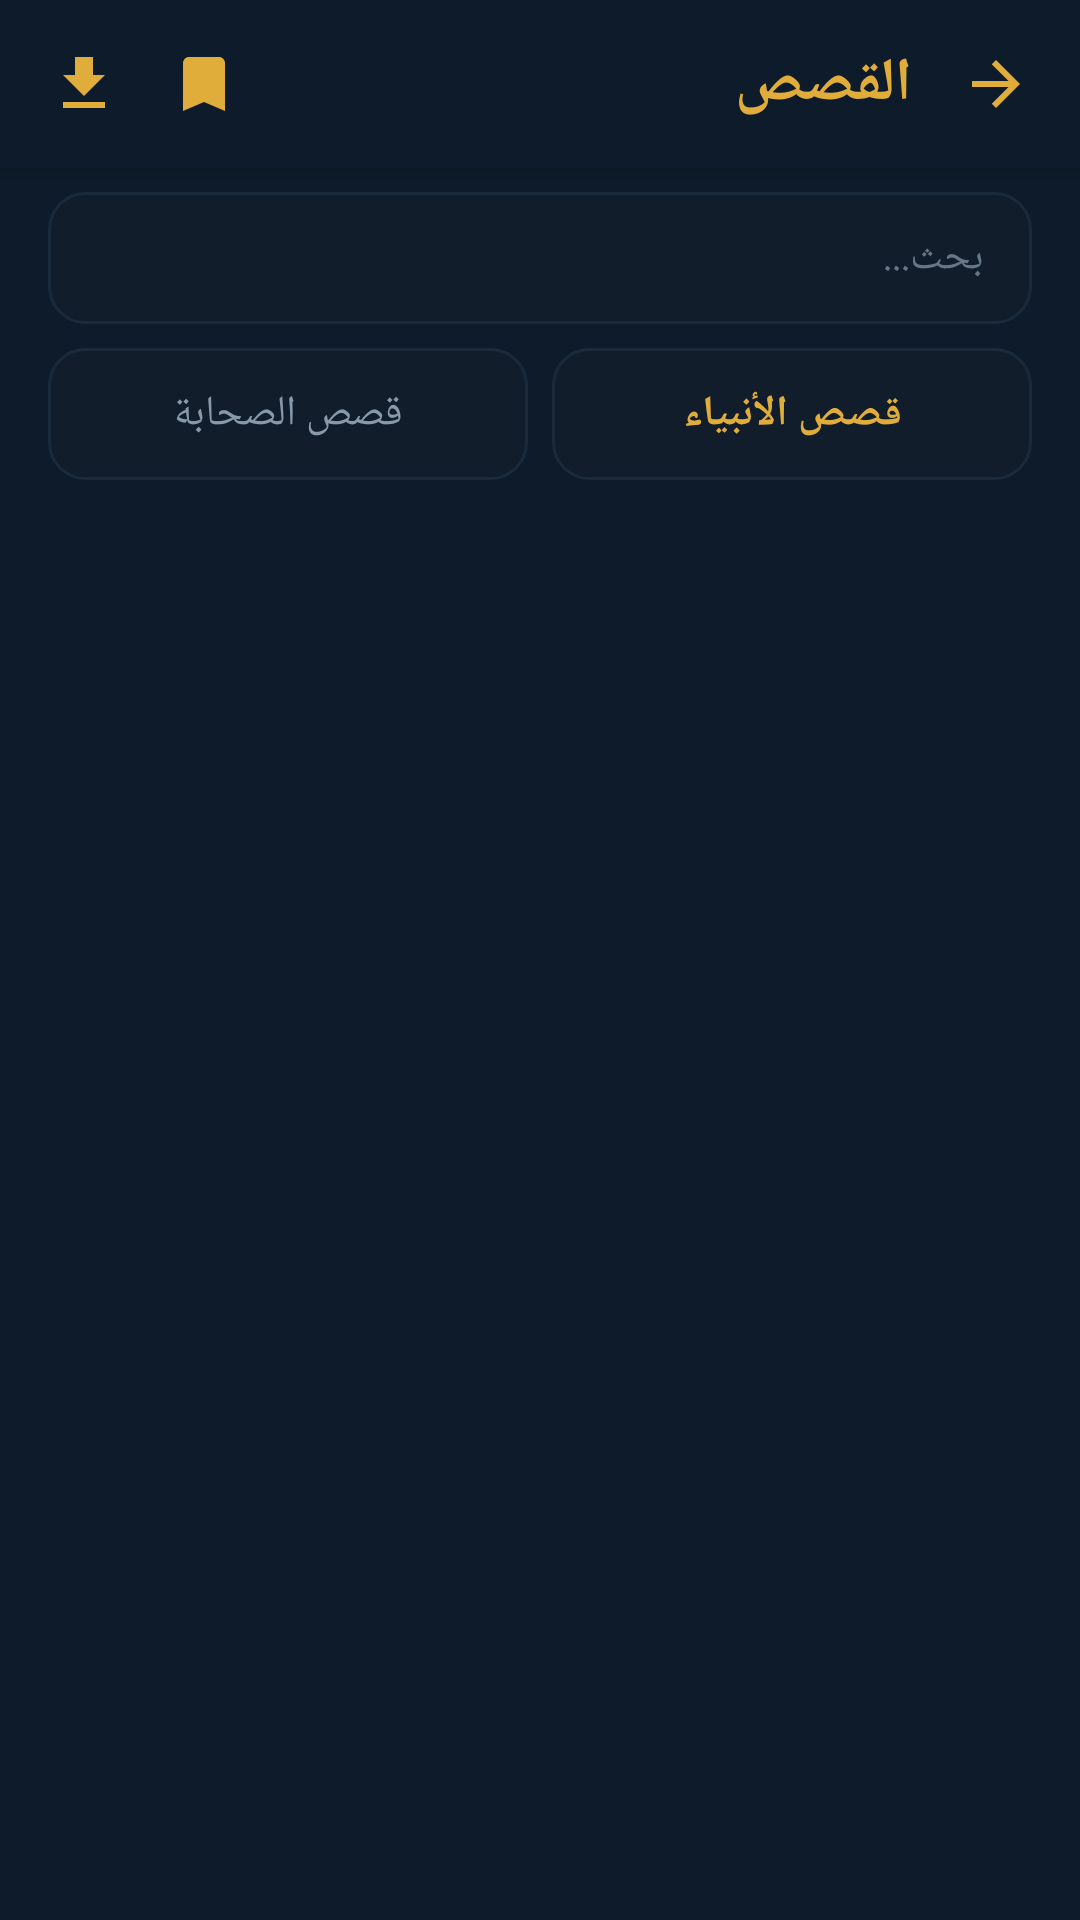

Named icons in this screenshot (1080 x 1920) and their bounding boxes, [x1, y1, x2, y2]:
التحميلات: [63, 57, 105, 108]
العلامات المرجعية: [183, 57, 225, 111]
